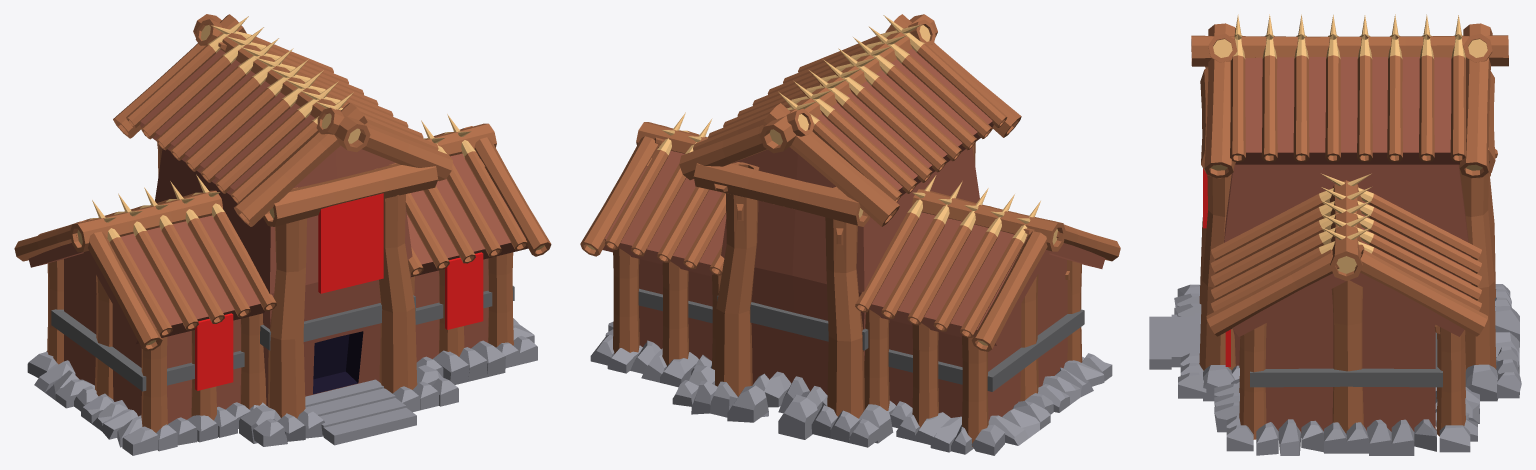
Rendered from Orc-ClanHall.fbx.
3 views of the same model, side by side, from view 1: azimuth 30°, elevation 25°; view 2: azimuth 150°, elevation 25°; view 3: azimuth 270°, elevation 25° (orthographic). The views are drawn at different scales.
Visible parts, largest first — view 1: OrcBase-Wall, OrcBase, OrcBase--Roof, OrcBase-Stone, OrcBase-Flags; view 2: OrcBase-Wall, OrcBase, OrcBase--Roof, OrcBase-Stone; view 3: OrcBase, OrcBase-Wall, OrcBase--Roof, OrcBase-Stone, OrcBase-Flags.
Part boxes in pixels (box(x1,y1,x2,y2)): OrcBase-Wall: box(14, 14, 551, 432); OrcBase: box(28, 49, 528, 423); OrcBase--Roof: box(38, 16, 527, 336); OrcBase-Stone: box(27, 318, 537, 455); OrcBase-Flags: box(195, 193, 483, 390); OrcBase-Wall: box(580, 14, 1120, 446); OrcBase: box(602, 48, 1105, 421); OrcBase--Roof: box(604, 15, 1040, 337); OrcBase-Stone: box(590, 321, 1112, 455); OrcBase: box(1224, 57, 1471, 432); OrcBase-Wall: box(1191, 23, 1508, 439); OrcBase--Roof: box(1211, 14, 1481, 311); OrcBase-Stone: box(1149, 284, 1521, 455); OrcBase-Flags: box(1203, 168, 1230, 366).
Size of the model in its own units: 45.19 by 32.35 by 32.99.
